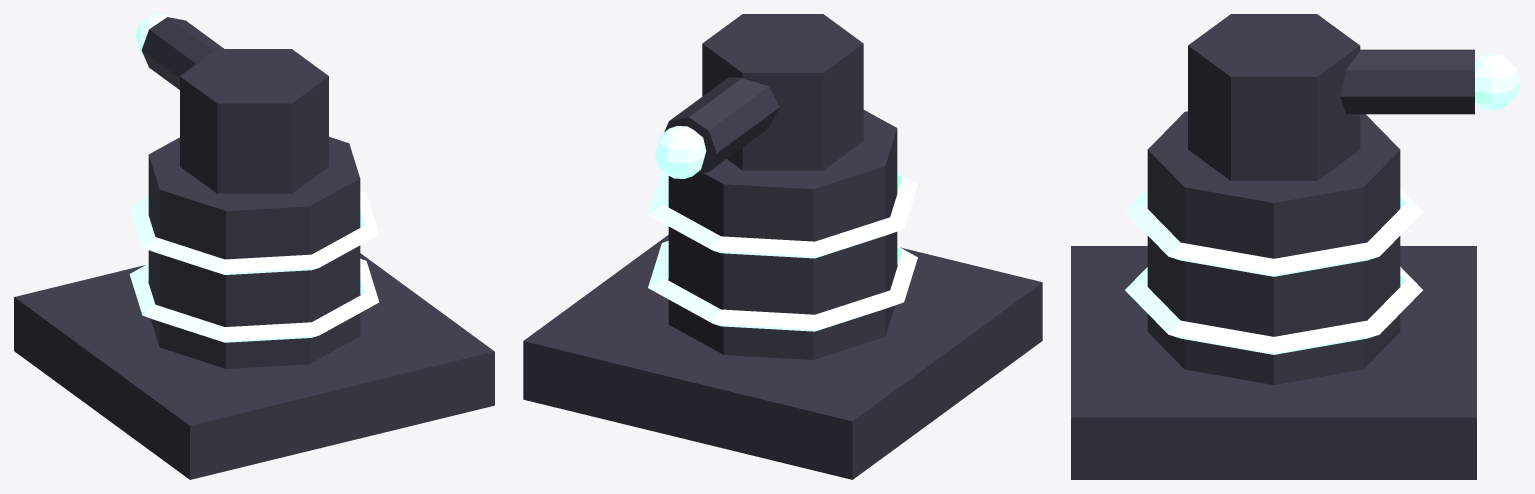
The model's file is tower_laser.glb.
3 renders of one model, left to right at view 1: azimuth 30°, elevation 25°; view 2: azimuth 150°, elevation 25°; view 3: azimuth 270°, elevation 25°, orthographic. The views are drawn at different scales.
Visible parts, largest first — view 1: tower_laser; view 2: tower_laser; view 3: tower_laser.
Part boxes in pixels (left/top/right/bottom): tower_laser: left=14, top=14, right=494, bottom=479; tower_laser: left=523, top=14, right=1042, bottom=479; tower_laser: left=1071, top=14, right=1520, bottom=479.
Bounding box in the file's own units: 0.7071 × 0.67 × 0.7836.
